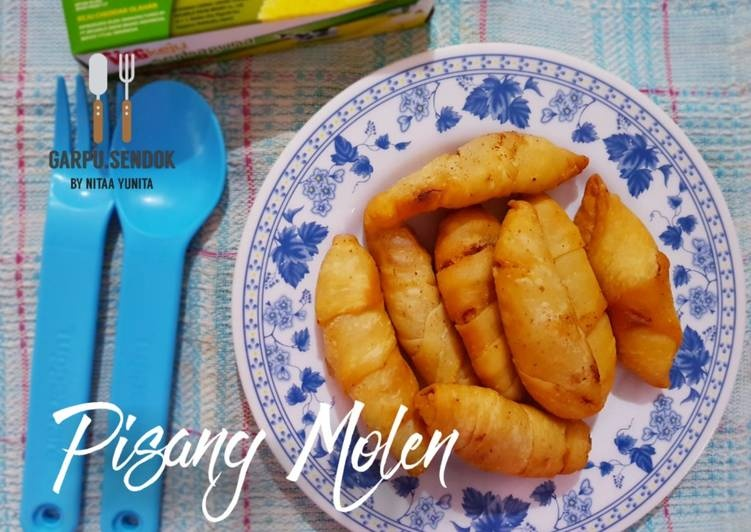pisang_molen: (317, 233, 429, 473), (570, 173, 680, 392), (366, 131, 587, 232), (412, 391, 593, 477)
